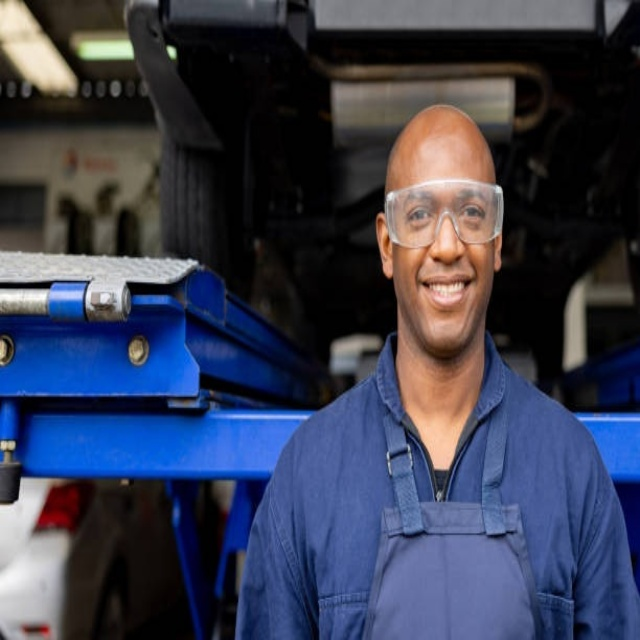Gafas: (383, 178, 505, 247)
Sin_mascara: (416, 268, 477, 326)
